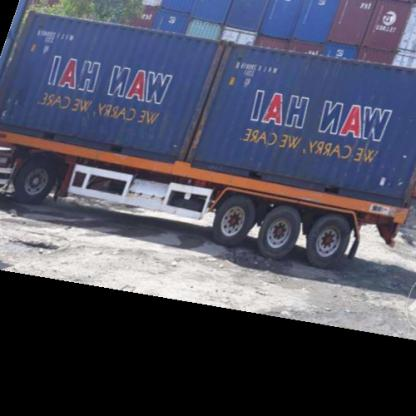Damage: (181, 37, 235, 159)
